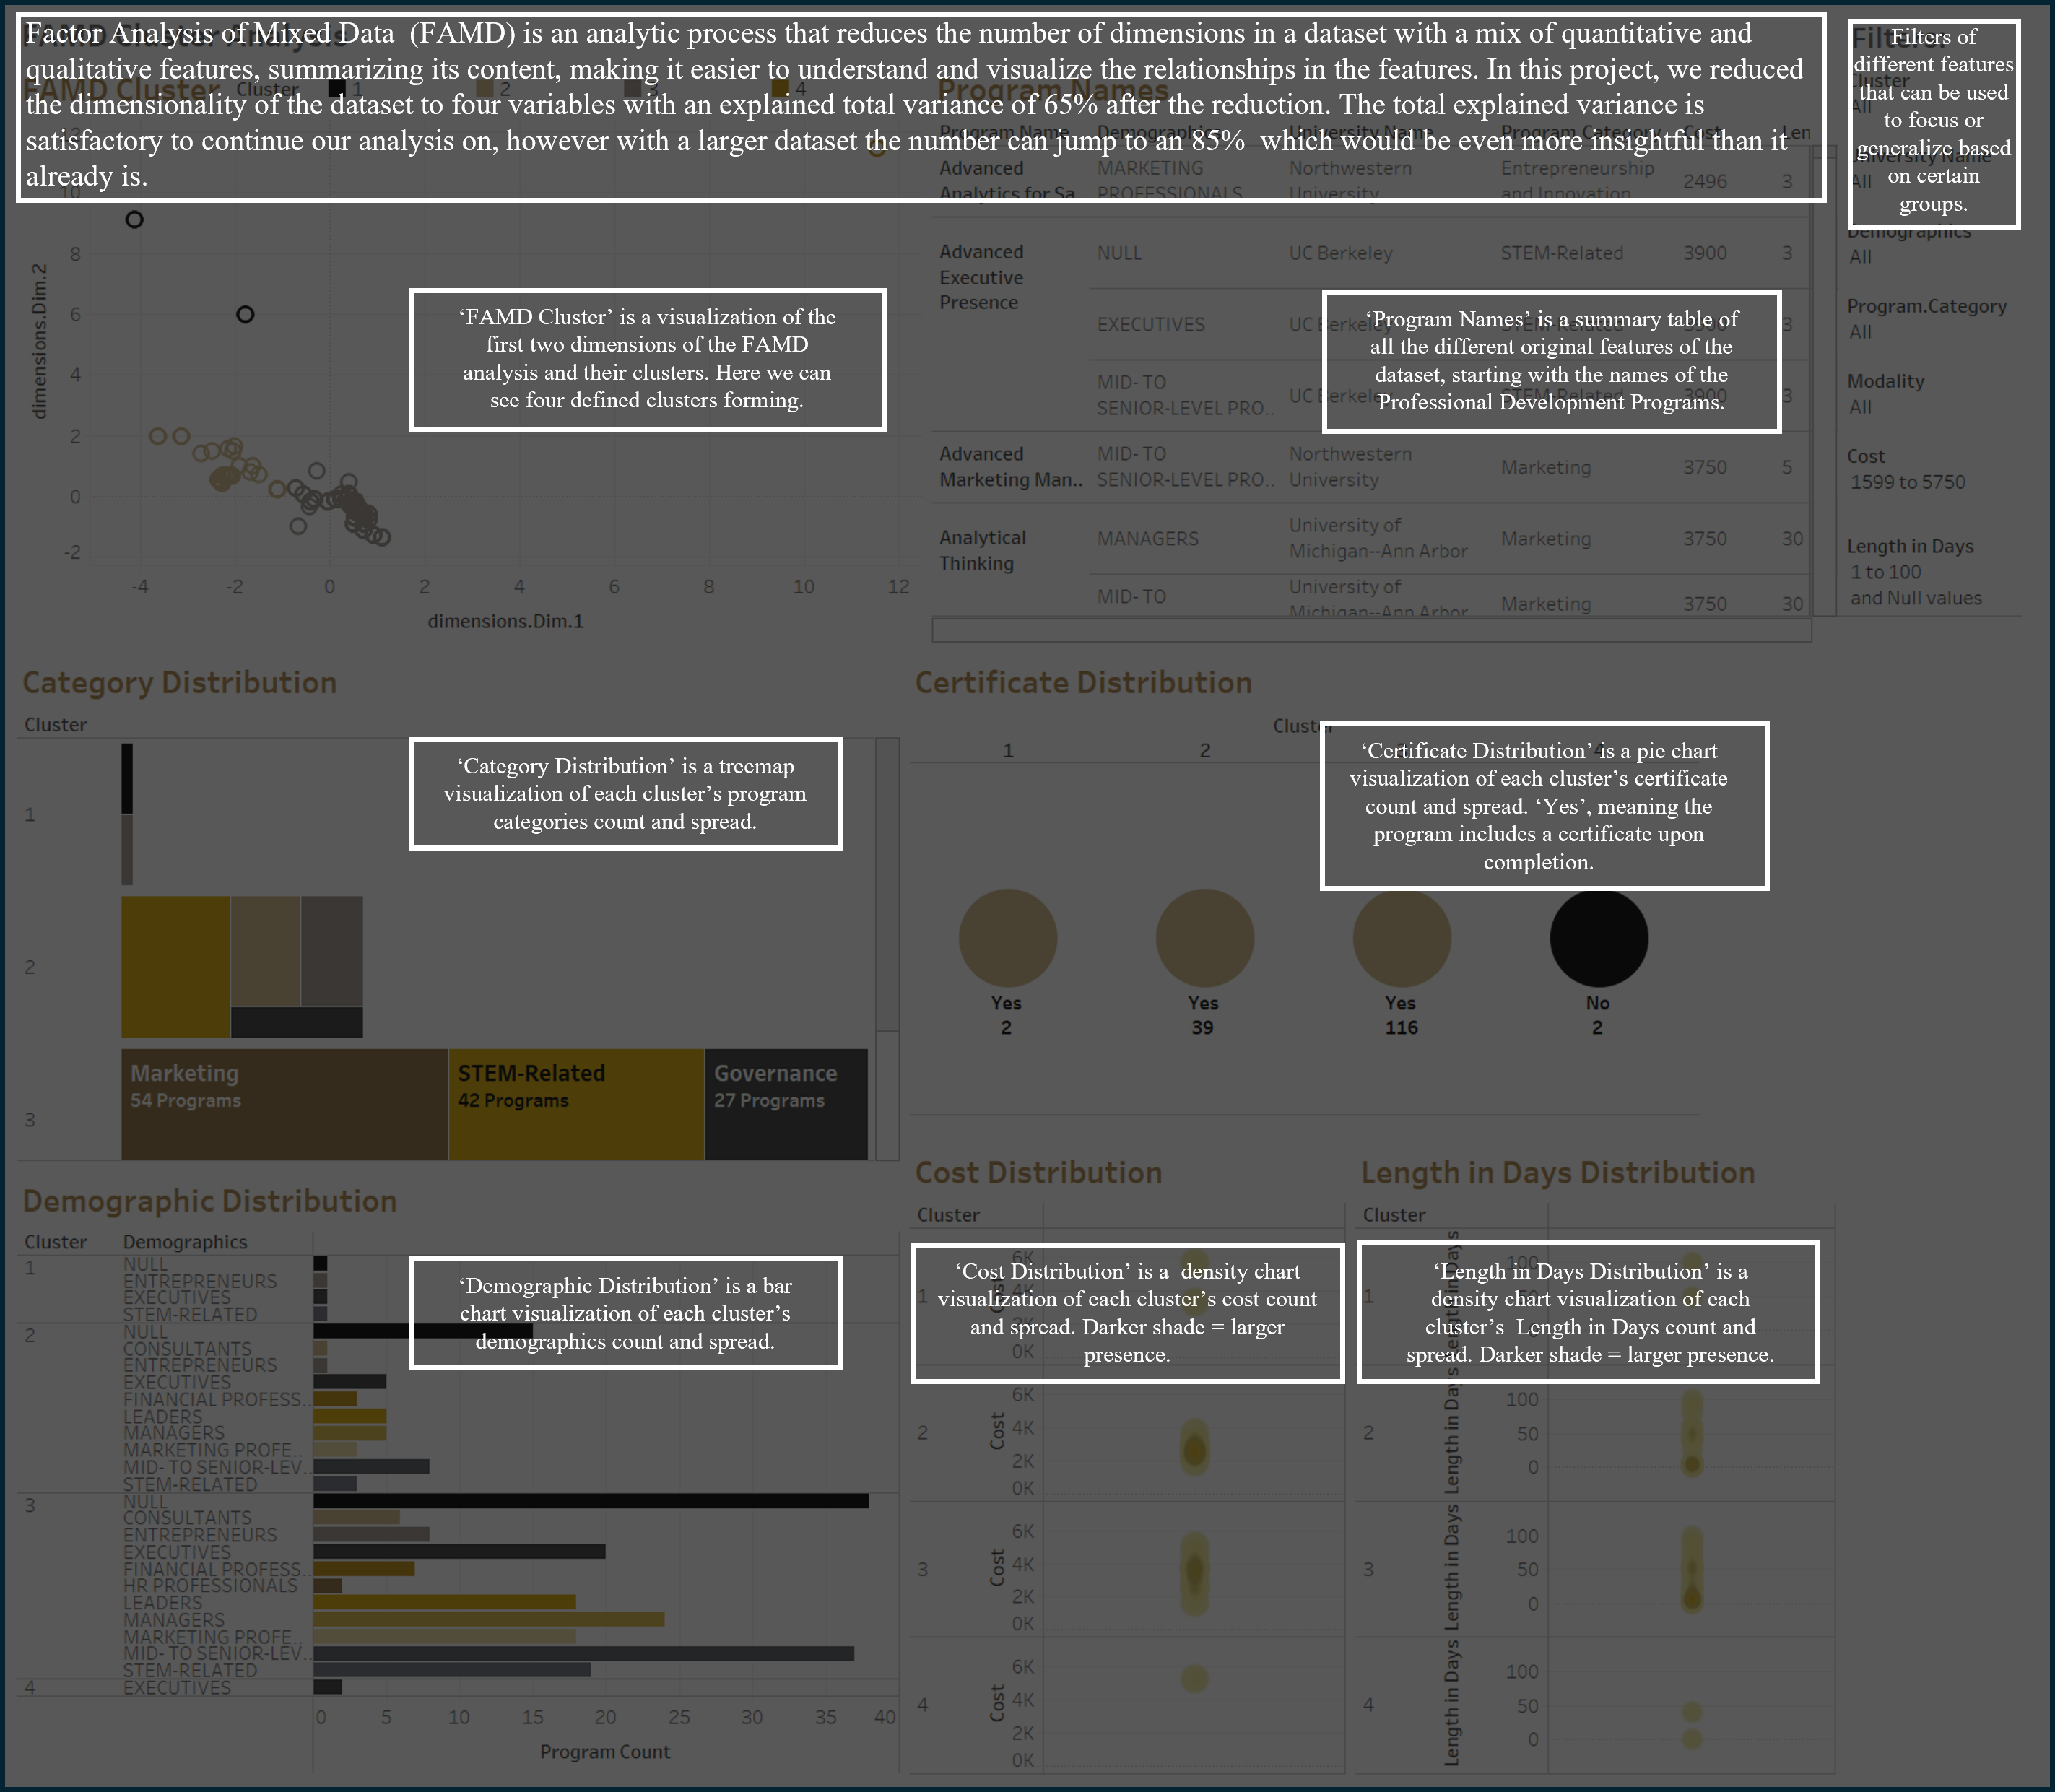

Layout of this report page (visuals, bound fields, positions):
{"tool":"tableau","page":{"name":"FAMD Clustering","canvas":[1640,1451],"ordinal":1},"visuals":[{"type":"text","box":[8,8,1486,35]},{"type":"text","box":[1494,8,138,40]},{"type":"worksheet","title":"FAMD Cluster 65% Variance explained (Only Online)","mark":"Automatic","rows":["dimensions.Dim.2"],"cols":["dimensions.Dim.1"],"box":[8,43,743,481]},{"type":"worksheet","title":"Program Names","mark":"Automatic","rows":["Program Name","Demographics Split","University Name","Program.Category","Combined.Costs","All LoD w/o Outliers","Certificate-1","Modality-1","clusters"],"box":[751,43,743,481]},{"type":"filter","title":"FAMD Cluster 65% Variance explained (Only Online)","param":"[federated.0twpiwt1maywzd0zwb44l1sfk9no].[none:clusters:ok]","box":[1494,48,138,61]},{"type":"legend","title":"FAMD Cluster 65% Variance explained (Only Online)","param":"[federated.0twpiwt1maywzd0zwb44l1sfk9no].[none:clusters:ok]","box":[190,60,556,23]},{"type":"filter","title":"FAMD Cluster 65% Variance explained (Only Online)","param":"[federated.0twpiwt1maywzd0zwb44l1sfk9no].[none:University Name:nk]","box":[1494,109,138,61]},{"type":"filter","title":"FAMD Cluster 65% Variance explained (Only Online)","param":"[federated.0twpiwt1maywzd0zwb44l1sfk9no].[none:Demographics Split:nk]","box":[1494,170,138,61]},{"type":"filter","title":"FAMD Cluster 65% Variance explained (Only Online)","param":"[federated.0twpiwt1maywzd0zwb44l1sfk9no].[none:Program.Category:nk]","box":[1494,231,138,61]},{"type":"filter","title":"FAMD Cluster 65% Variance explained (Only Online)","param":"[federated.0twpiwt1maywzd0zwb44l1sfk9no].[none:Modality-1:nk]","box":[1494,292,138,61]},{"type":"filter","title":"FAMD Cluster 65% Variance explained (Only Online)","param":"[federated.0twpiwt1maywzd0zwb44l1sfk9no].[none:Combined.Costs:qk]","box":[1494,353,138,73]},{"type":"filter","title":"FAMD Cluster 65% Variance explained (Only Online)","param":"[federated.0twpiwt1maywzd0zwb44l1sfk9no].[none:All LoD w/o Outliers:qk]","box":[1494,426,138,73]},{"type":"dashboard-object","box":[1493,497,144,110]},{"type":"worksheet","title":"Category Distribution","mark":"Square","rows":["clusters"],"box":[8,524,724.5,421]},{"type":"worksheet","title":"Cert Dist","mark":"Pie","cols":["clusters"],"box":[732.5,524,761.5,398]},{"type":"worksheet","title":"Cost Distribution ","mark":"Heatmap","rows":["clusters","Combined.Costs"],"box":[732.5,922,362.2,521]},{"type":"worksheet","title":"Length in Days Distribution","mark":"Heatmap","rows":["clusters","All LoD w/o Outliers"],"box":[1094.7,922,399.3,521]},{"type":"worksheet","title":"Demo Dist","mark":"Bar","rows":["clusters","Demographics Split"],"cols":["Unique Value"],"box":[8,945,724.5,498]}]}

Visuals, with their boxes in screenshot pixels (x1, y1, x2, y2), scaled from the page's 1640x1451 canvas onto the 2055x1792 screenshot:
text: [10,10,1872,53]
text: [1872,10,2045,59]
"FAMD Cluster 65% Variance explained (Only Online)" worksheet: [10,53,941,647]
"Program Names" worksheet: [941,53,1872,647]
"FAMD Cluster 65% Variance explained (Only Online)" filter: [1872,59,2045,134]
"FAMD Cluster 65% Variance explained (Only Online)" legend: [238,74,935,103]
"FAMD Cluster 65% Variance explained (Only Online)" filter: [1872,134,2045,210]
"FAMD Cluster 65% Variance explained (Only Online)" filter: [1872,210,2045,285]
"FAMD Cluster 65% Variance explained (Only Online)" filter: [1872,285,2045,360]
"FAMD Cluster 65% Variance explained (Only Online)" filter: [1872,360,2045,436]
"FAMD Cluster 65% Variance explained (Only Online)" filter: [1872,436,2045,526]
"FAMD Cluster 65% Variance explained (Only Online)" filter: [1872,526,2045,617]
dashboard-object: [1871,614,2051,749]
"Category Distribution" worksheet (Square marks): [10,647,918,1167]
"Cert Dist" worksheet (Pie marks): [918,647,1872,1139]
"Cost Distribution " worksheet (Heatmap marks): [918,1139,1372,1782]
"Length in Days Distribution" worksheet (Heatmap marks): [1372,1139,1872,1782]
"Demo Dist" worksheet (Bar marks): [10,1167,918,1782]
